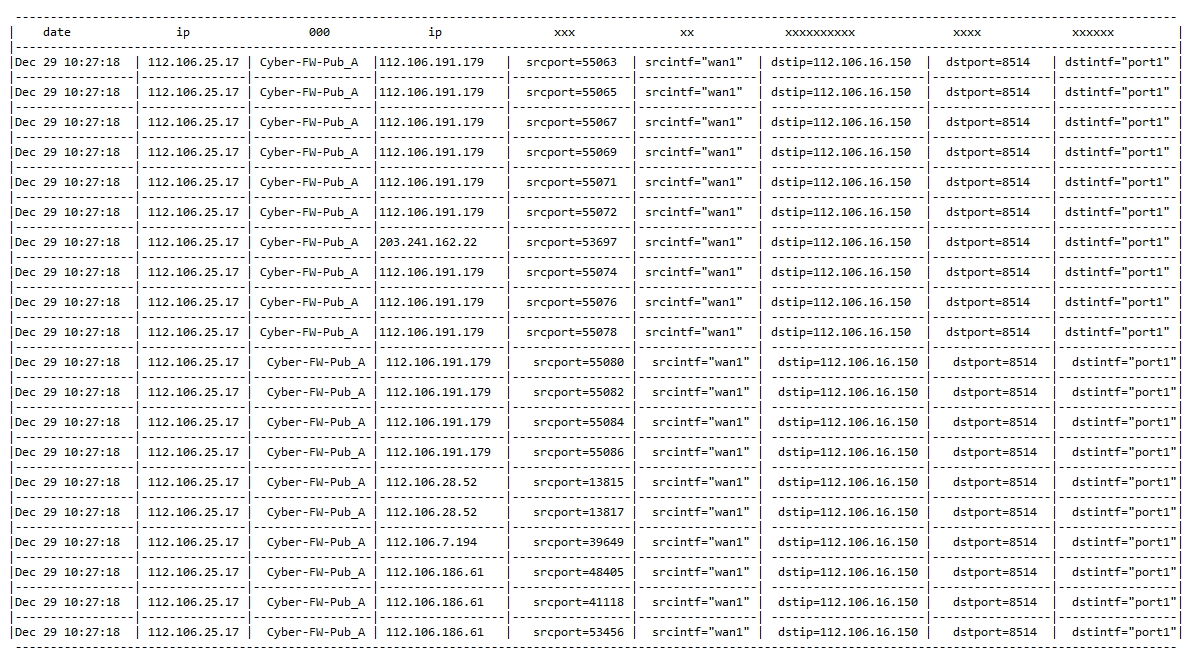table: (4, 10, 1187, 652)
